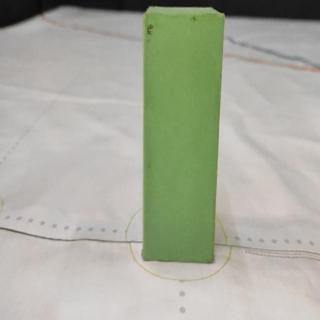greenbox: (135, 6, 227, 271)
